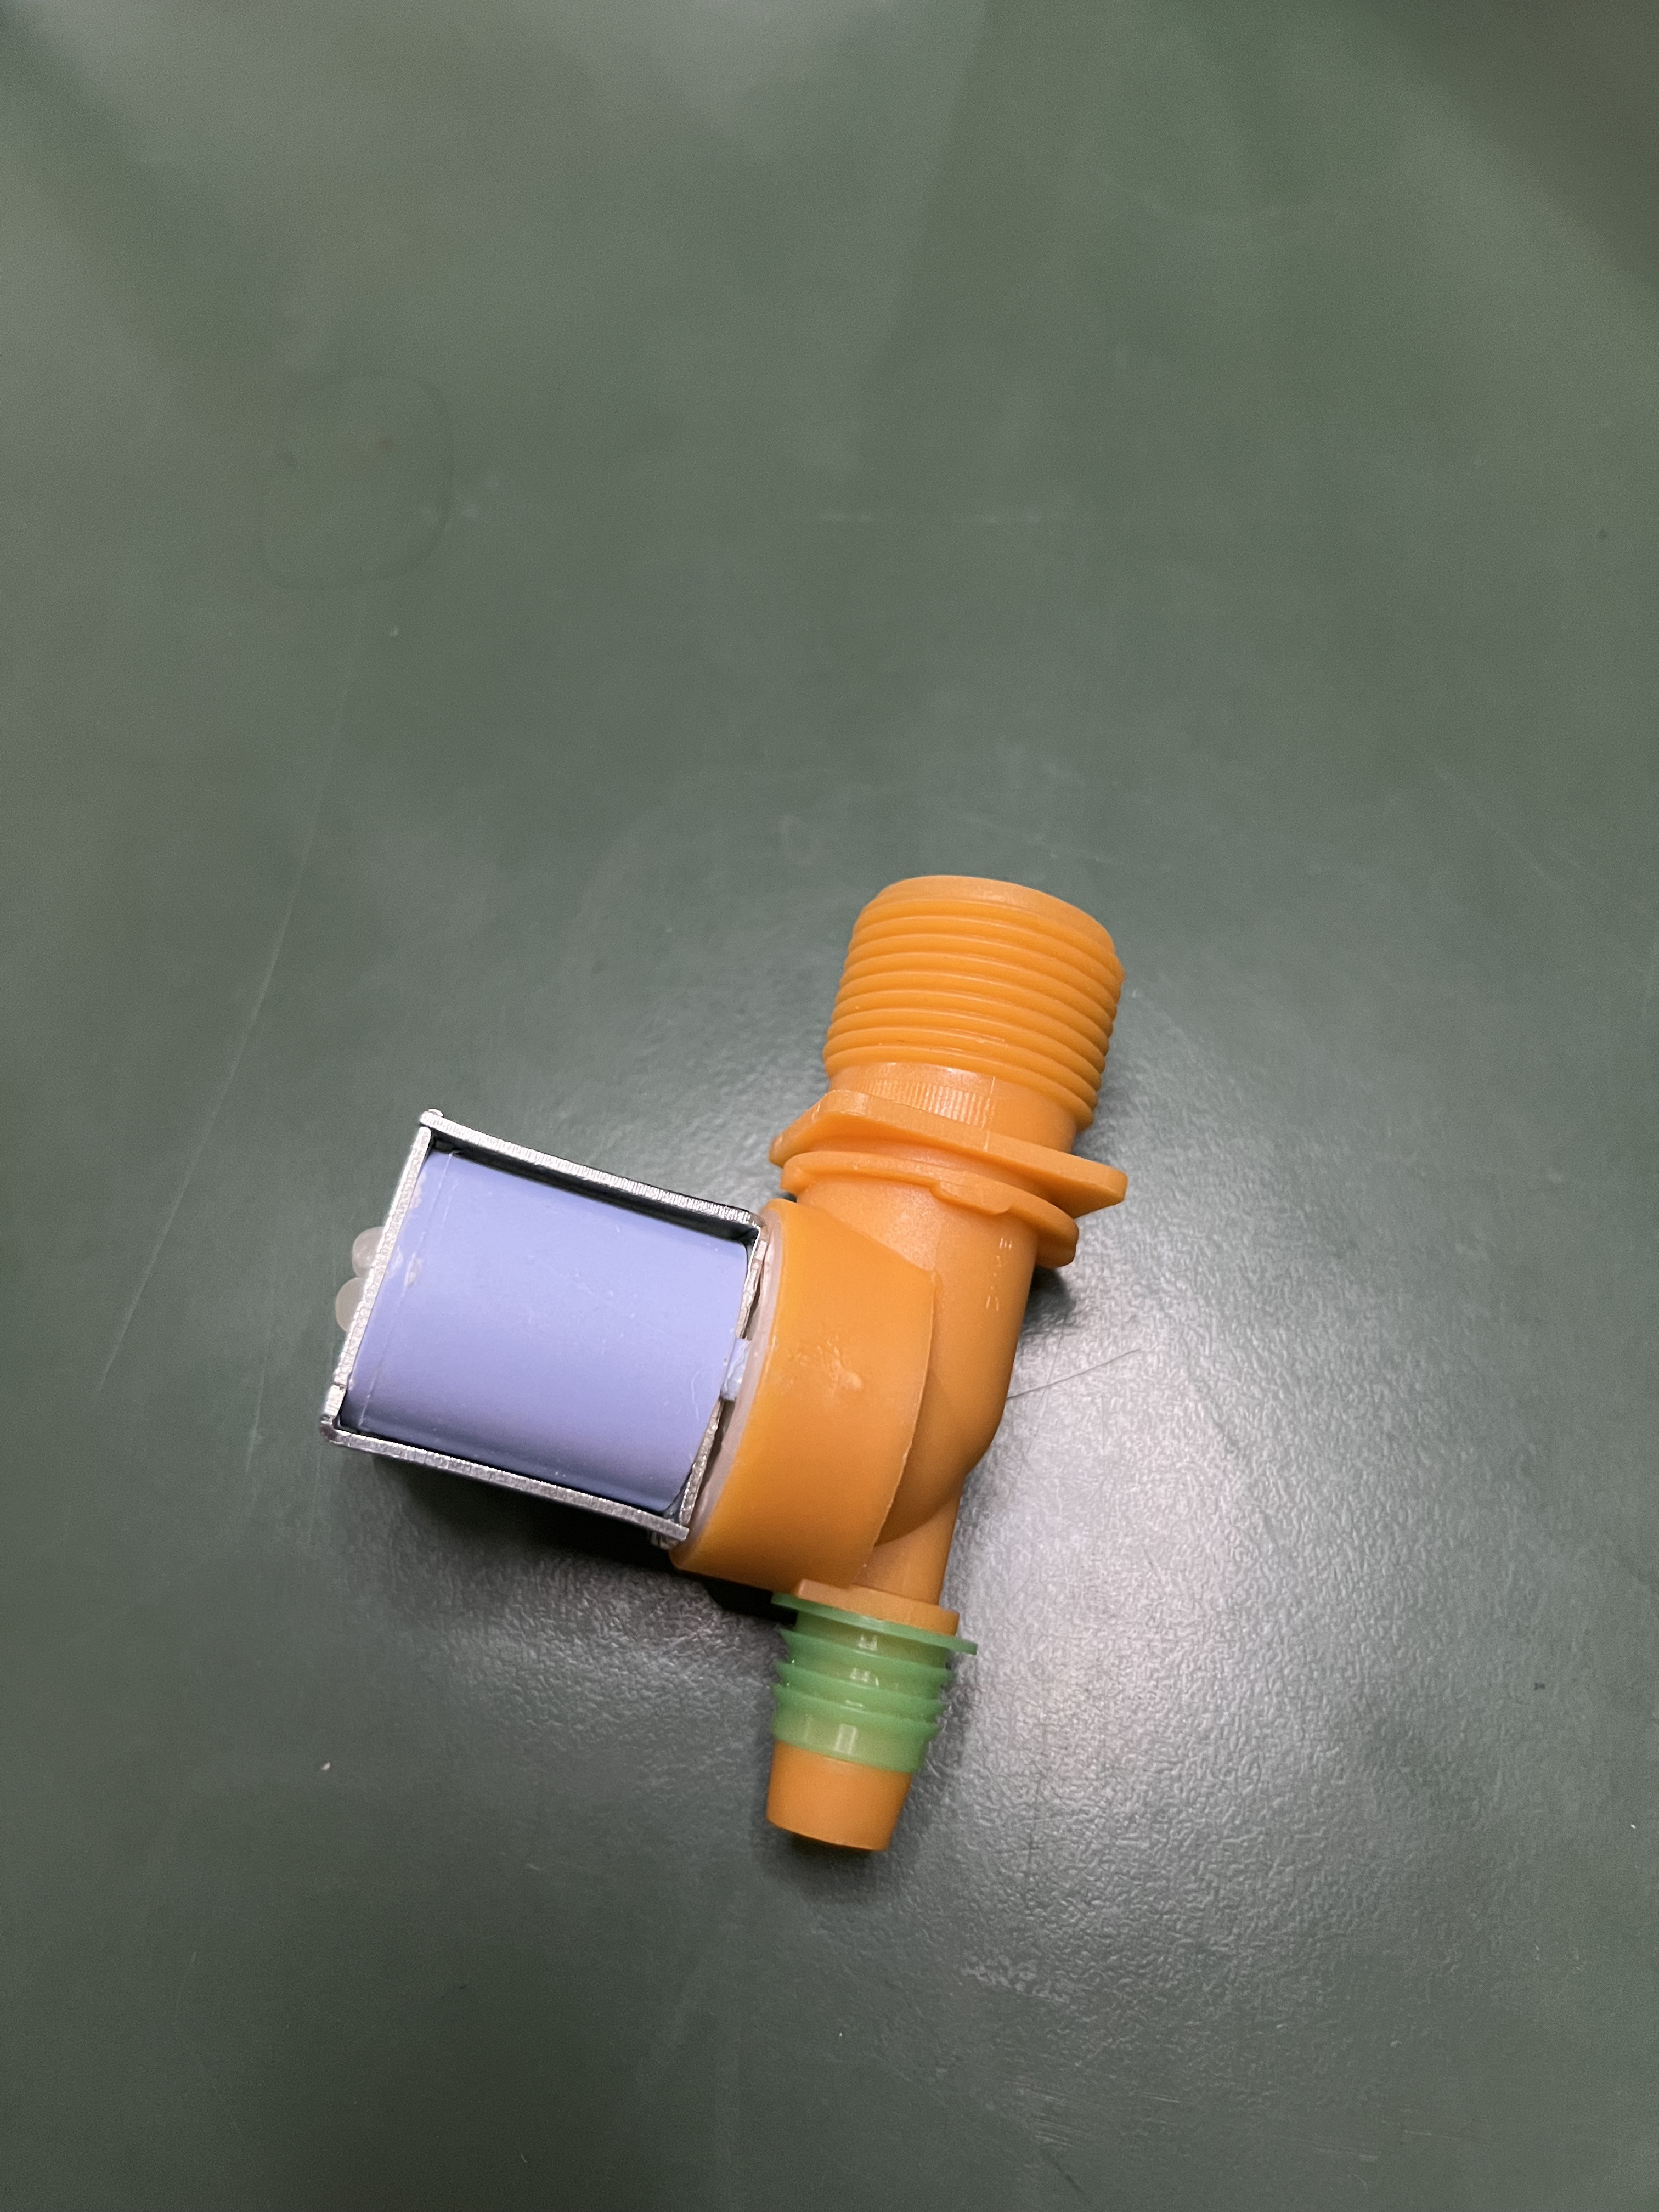ss_inlet_valves: (314, 855, 1176, 1925)
